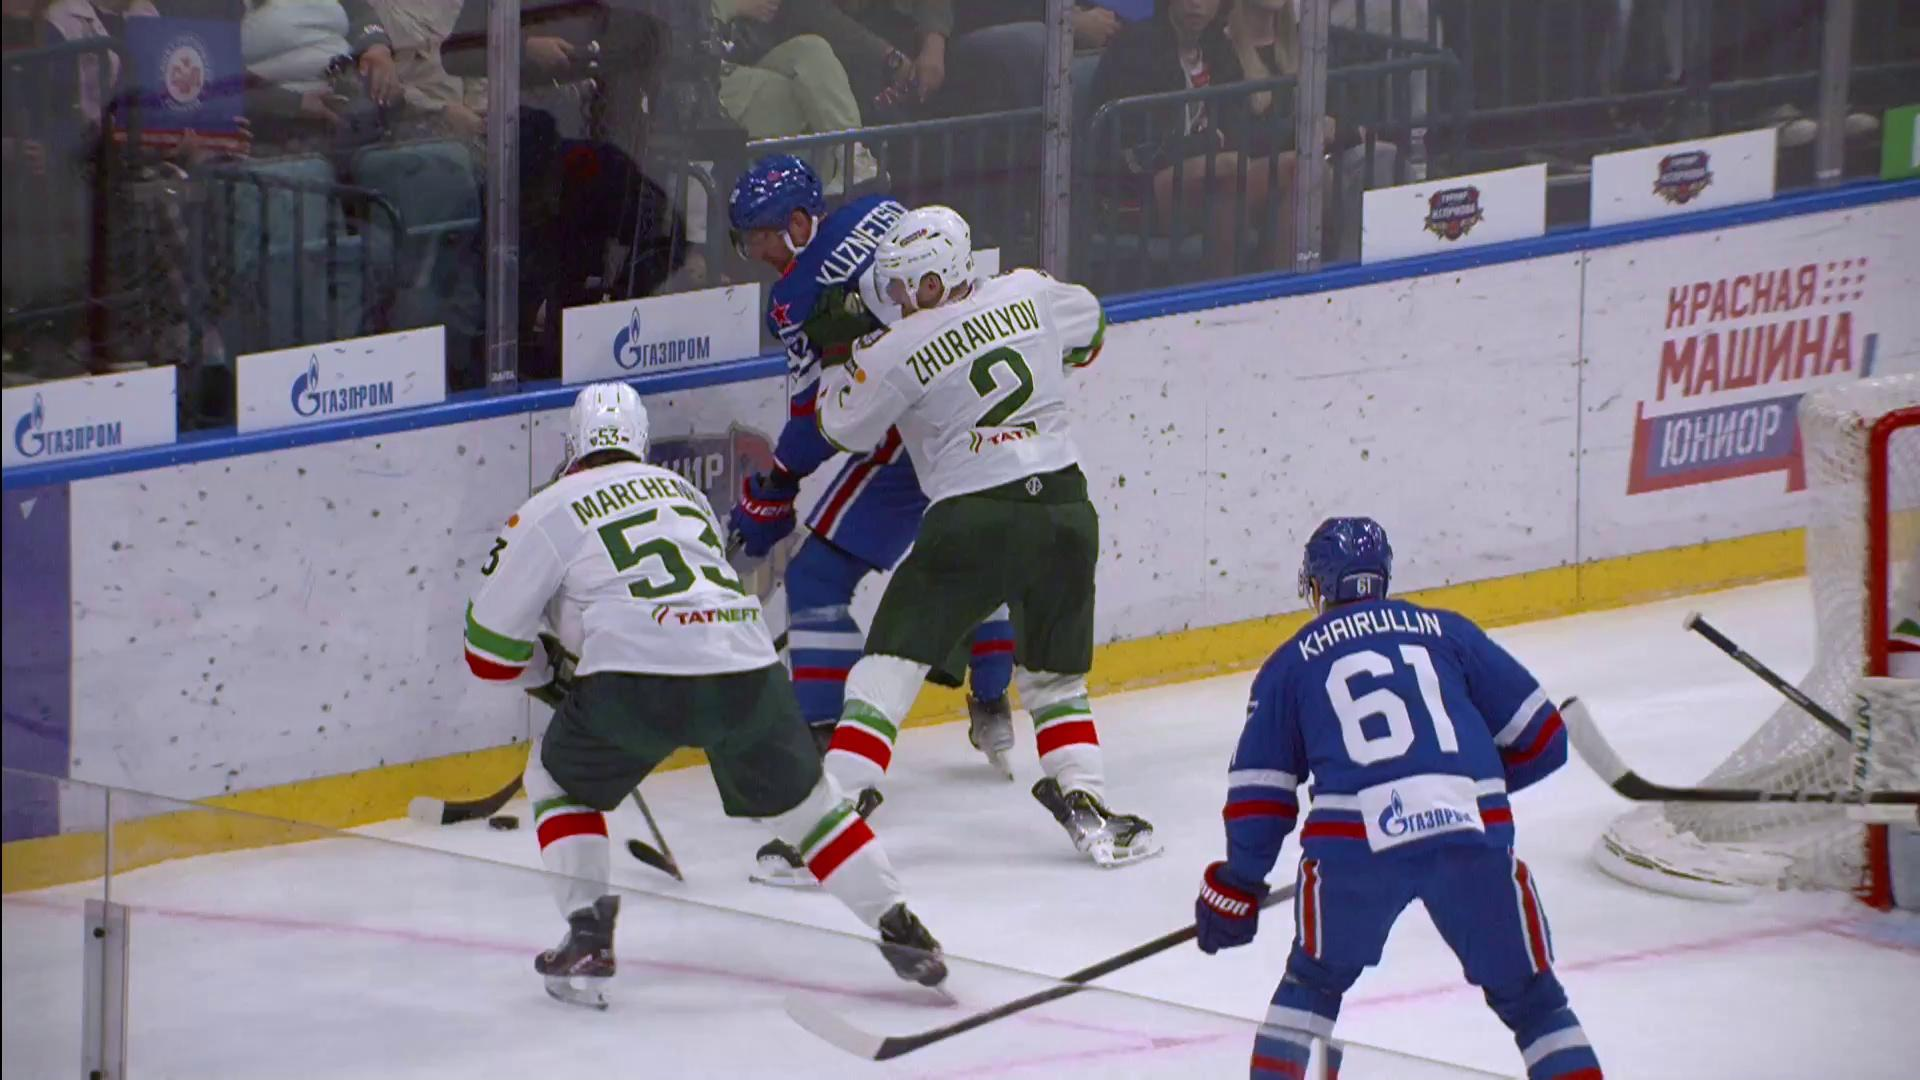ball: (489, 816, 520, 831)
